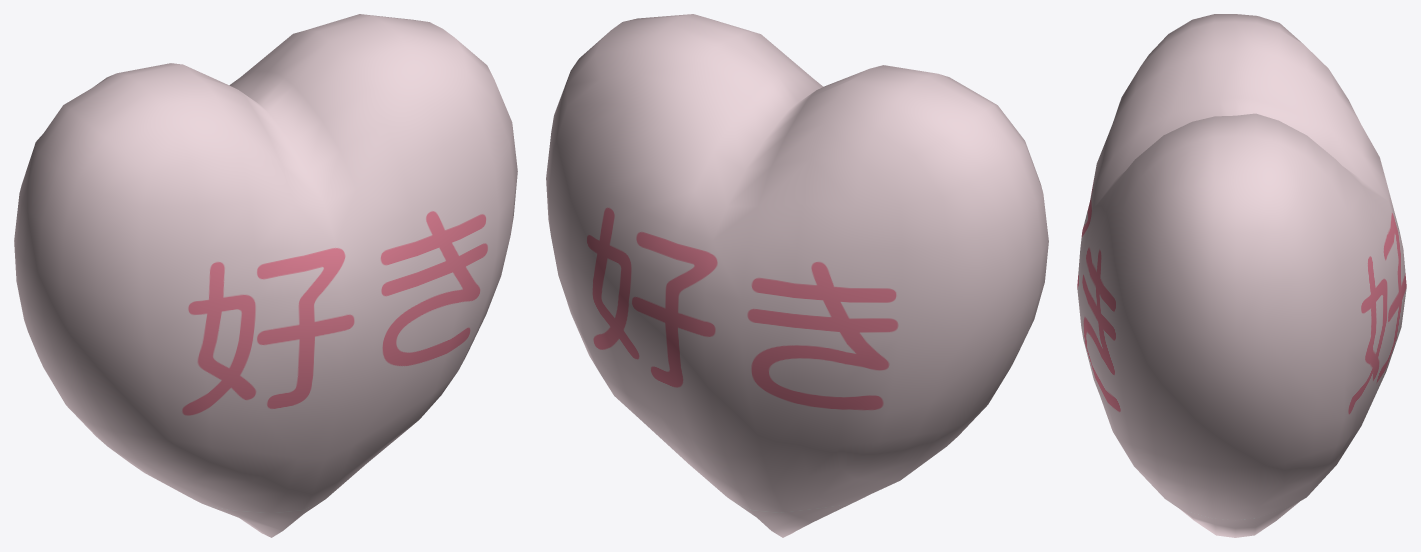
Rendered from Heart.gltf.
The picture shows the model from 3 angles, left to right: view 1: azimuth 30°, elevation 25°; view 2: azimuth 150°, elevation 25°; view 3: azimuth 270°, elevation 25°; orthographic projection. The views are drawn at different scales.
Visible parts, largest first — view 1: pCube1; view 2: pCube1; view 3: pCube1.
Boxes of the visible parts, left/top/right/bottom form: pCube1: left=14, top=14, right=517, bottom=537; pCube1: left=546, top=14, right=1048, bottom=537; pCube1: left=1077, top=14, right=1406, bottom=537.
Bounding box in the file's own units: 0.798 × 0.7749 × 0.5043.
Materials: 1 (1 with a texture image).
